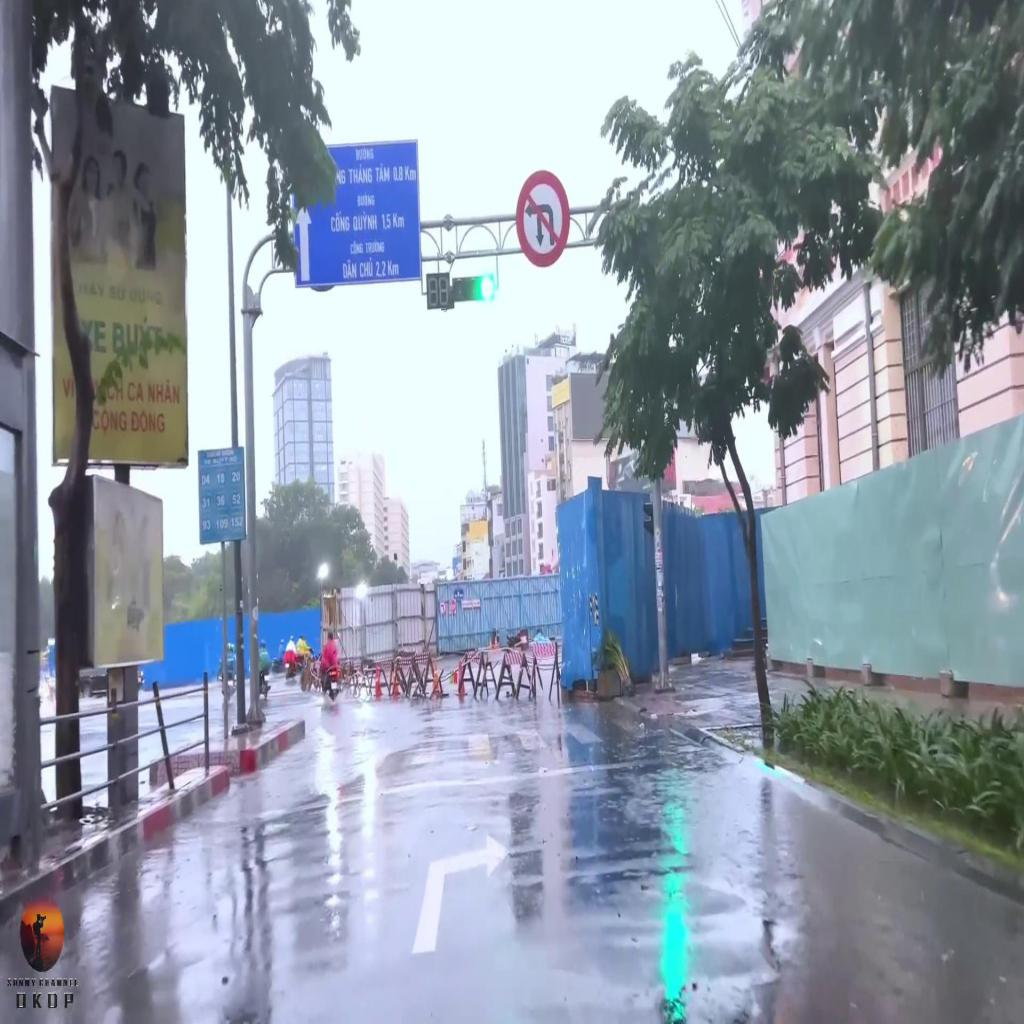khac: (294, 140, 422, 286), (514, 165, 572, 270)
